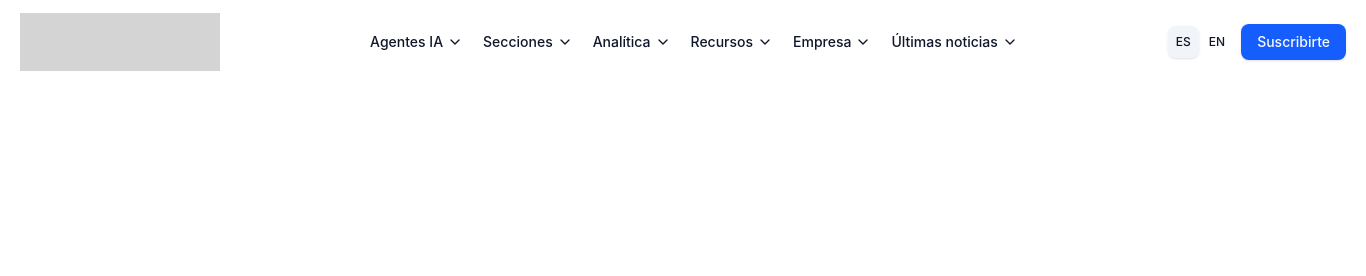
Test: Header dropdowns › opens and closes Empresa
This screenshot has width=1366, height=276.
Click the button "Empresa" at (832, 42), box x1=785 y1=24 x2=880 y2=60
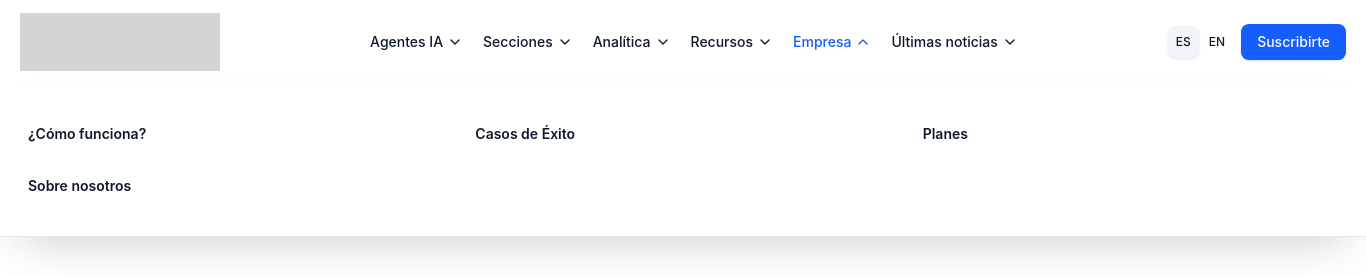
Expected: the button "Empresa" is expanded, x1=785 y1=24 x2=880 y2=60
Expected: the link "¿Cómo funciona?" is shown, x1=28 y1=125 x2=146 y2=142
Press Escape
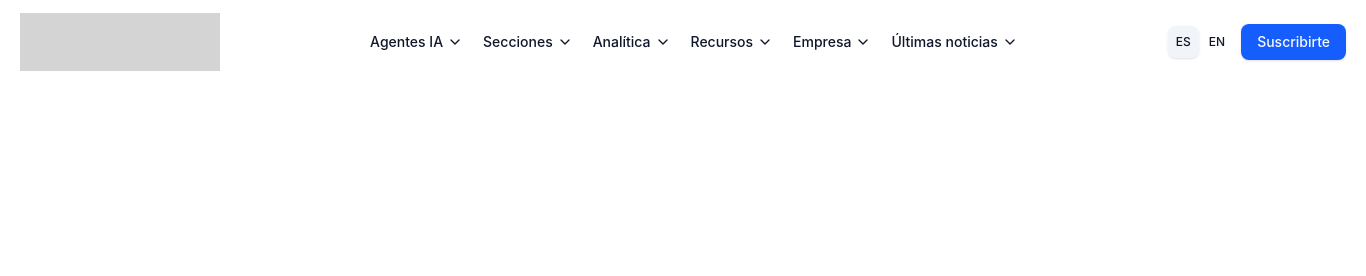
Expected: the button "Empresa" is collapsed, x1=785 y1=24 x2=880 y2=60
